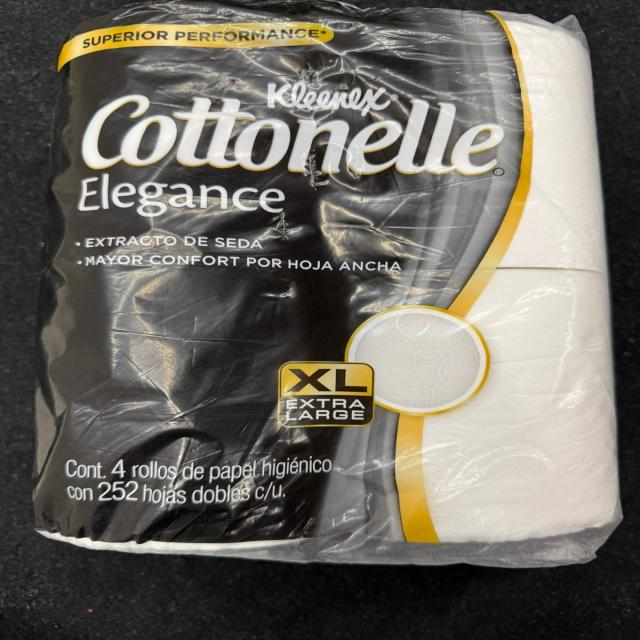Higienico Cottonelle Elegance XL 252h: (29, 0, 626, 570)
